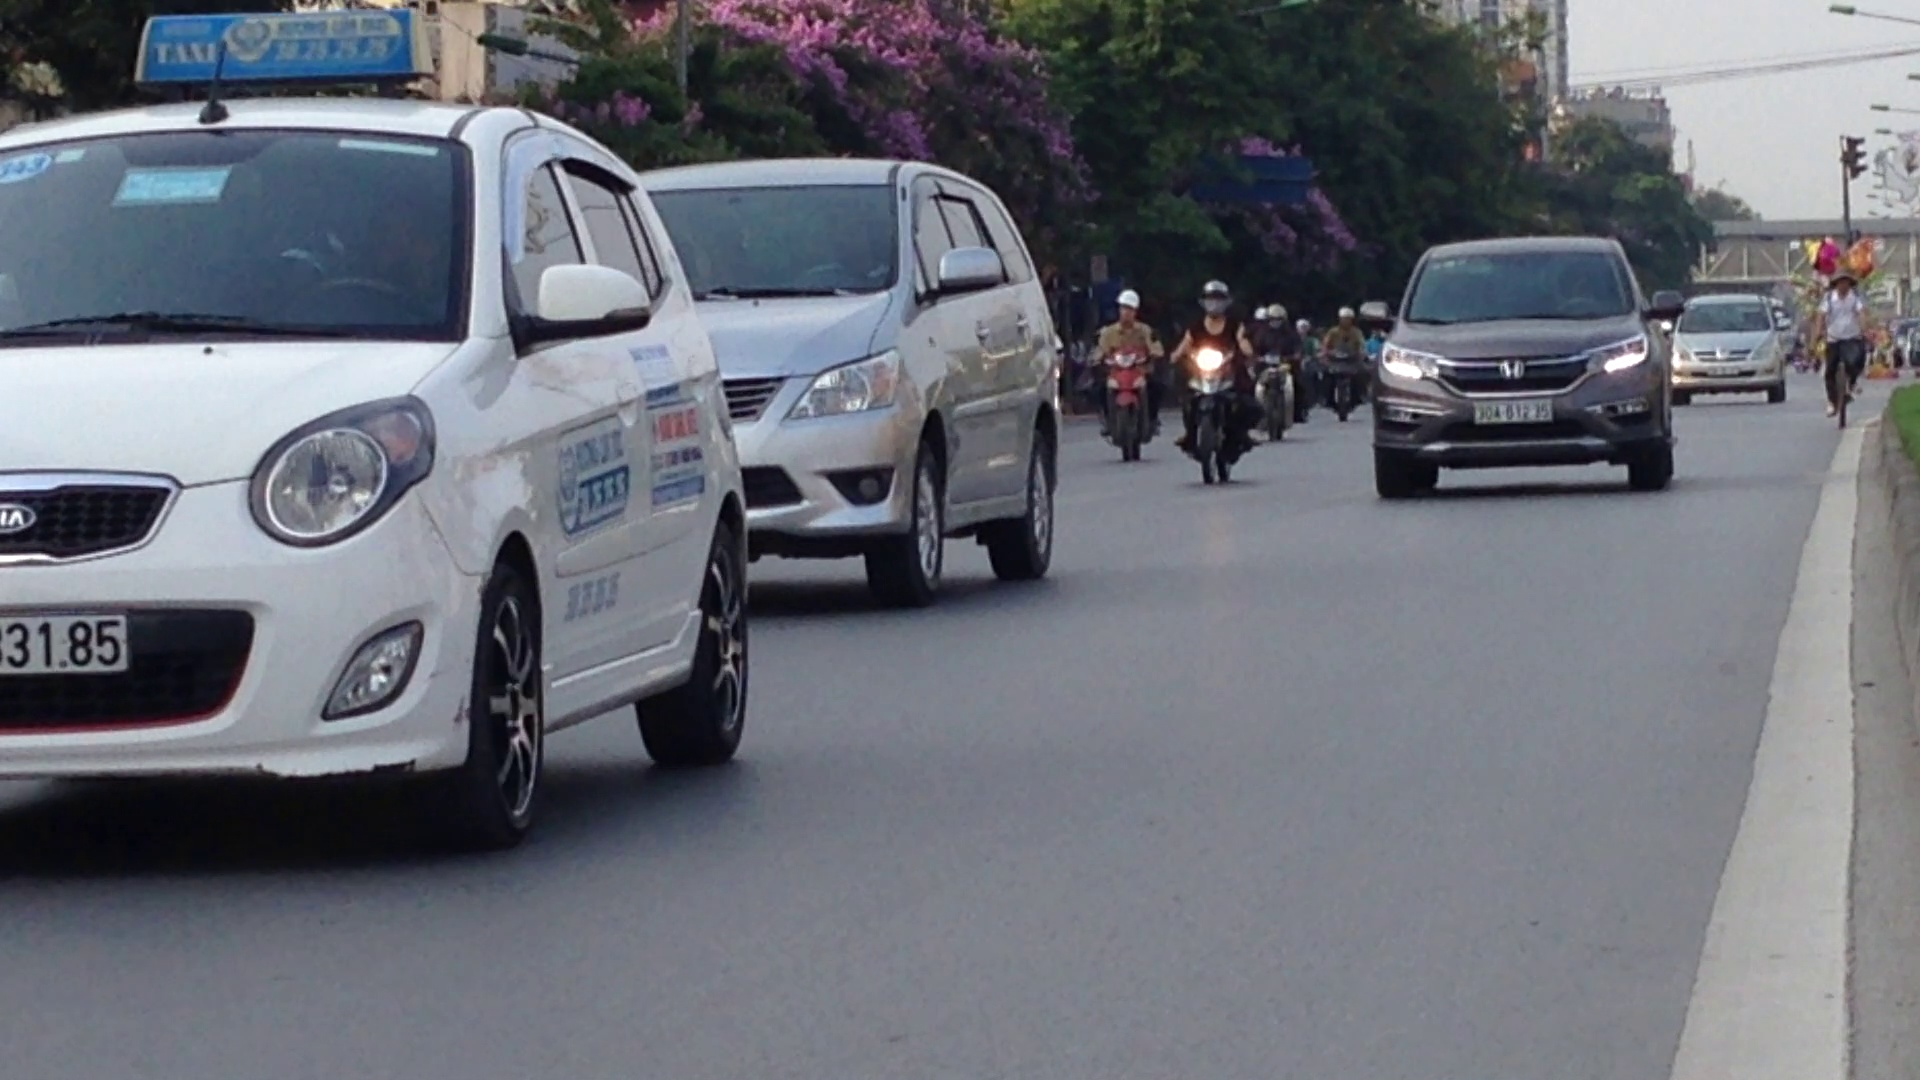person: (3, 610, 128, 676), (1469, 399, 1554, 425)
